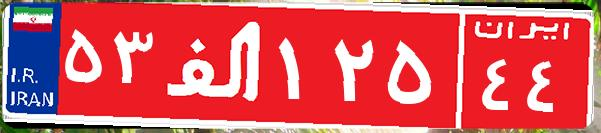1: (273, 28, 330, 110)
2: (330, 28, 385, 110)
3: (110, 28, 158, 105)
4: (475, 38, 525, 113), (525, 38, 570, 115)
5: (385, 28, 445, 110), (57, 26, 110, 107)
الف: (158, 15, 273, 115)
